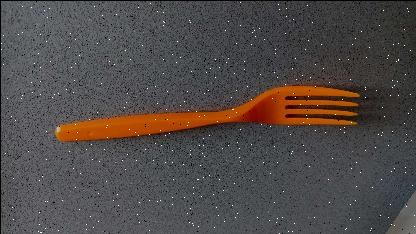Others: (52, 82, 359, 144)
